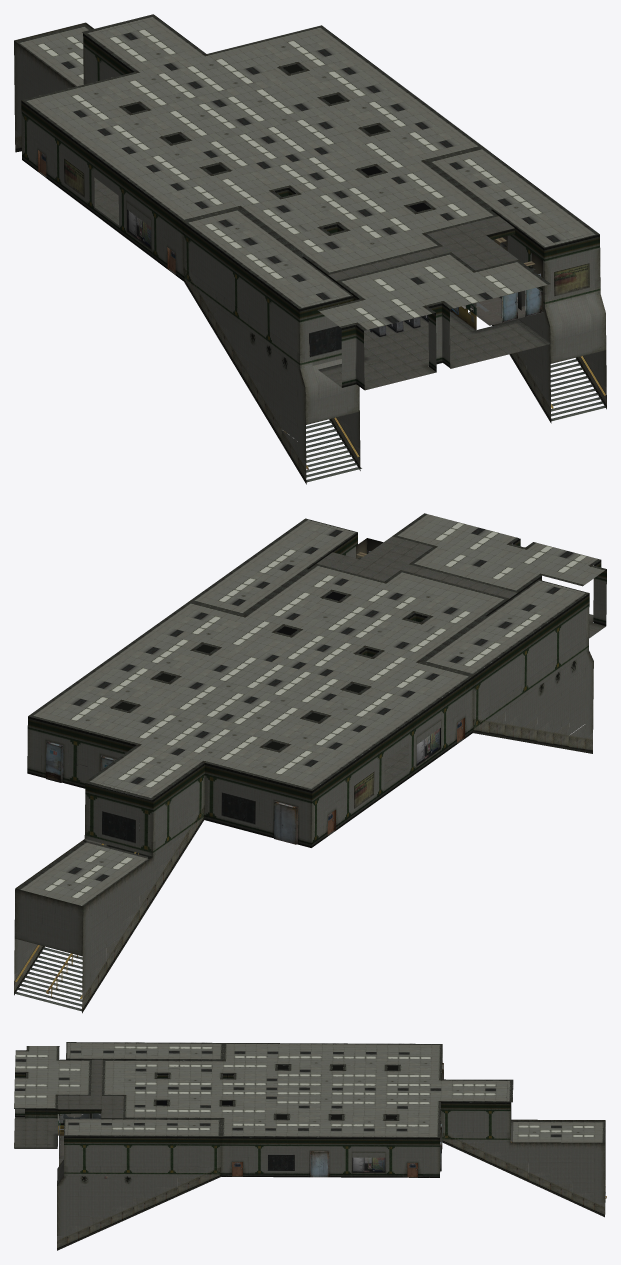
File: station.glb
3 renders of one model, top to bottom at view 1: azimuth 30°, elevation 25°; view 2: azimuth 150°, elevation 25°; view 3: azimuth 270°, elevation 25°, orthographic. The views are drawn at different scales.
Parts seen in each view (by area): view 1: FrontSide_8, FrontSide_11, FrontSide_0, FrontSide_6, FrontSide_4, FrontSide_10, FrontSide_1, FrontSide_7; view 2: FrontSide_8, FrontSide_11, FrontSide_0, FrontSide_6, FrontSide_4, FrontSide_7, FrontSide_2; view 3: FrontSide_8, FrontSide_11, FrontSide_0, FrontSide_6, FrontSide_2, FrontSide_4, FrontSide_7.
Part boxes in pixels (left/top/right/bottom): FrontSide_8: left=16, top=14, right=599, bottom=390; FrontSide_11: left=21, top=33, right=600, bottom=440; FrontSide_0: left=14, top=22, right=606, bottom=461; FrontSide_6: left=15, top=130, right=606, bottom=484; FrontSide_4: left=62, top=153, right=593, bottom=359; FrontSide_10: left=465, top=236, right=543, bottom=325; FrontSide_1: left=450, top=273, right=541, bottom=329; FrontSide_7: left=127, top=209, right=451, bottom=336; FrontSide_8: left=17, top=513, right=606, bottom=906; FrontSide_11: left=22, top=532, right=606, bottom=971; FrontSide_0: left=14, top=636, right=593, bottom=991; FrontSide_6: left=14, top=707, right=592, bottom=1013; FrontSide_4: left=98, top=766, right=376, bottom=845; FrontSide_7: left=46, top=728, right=440, bottom=782; FrontSide_2: left=274, top=718, right=464, bottom=844; FrontSide_8: left=14, top=1042, right=605, bottom=1177; FrontSide_11: left=15, top=1049, right=605, bottom=1225; FrontSide_0: left=25, top=1059, right=605, bottom=1235; FrontSide_6: left=57, top=1132, right=606, bottom=1250; FrontSide_2: left=104, top=1062, right=443, bottom=1177; FrontSide_4: left=265, top=1103, right=511, bottom=1172; FrontSide_7: left=81, top=1113, right=442, bottom=1178.
Size of the model in its own units: 20.12 by 11.08 by 51.15.
13 materials, 13 textured.
